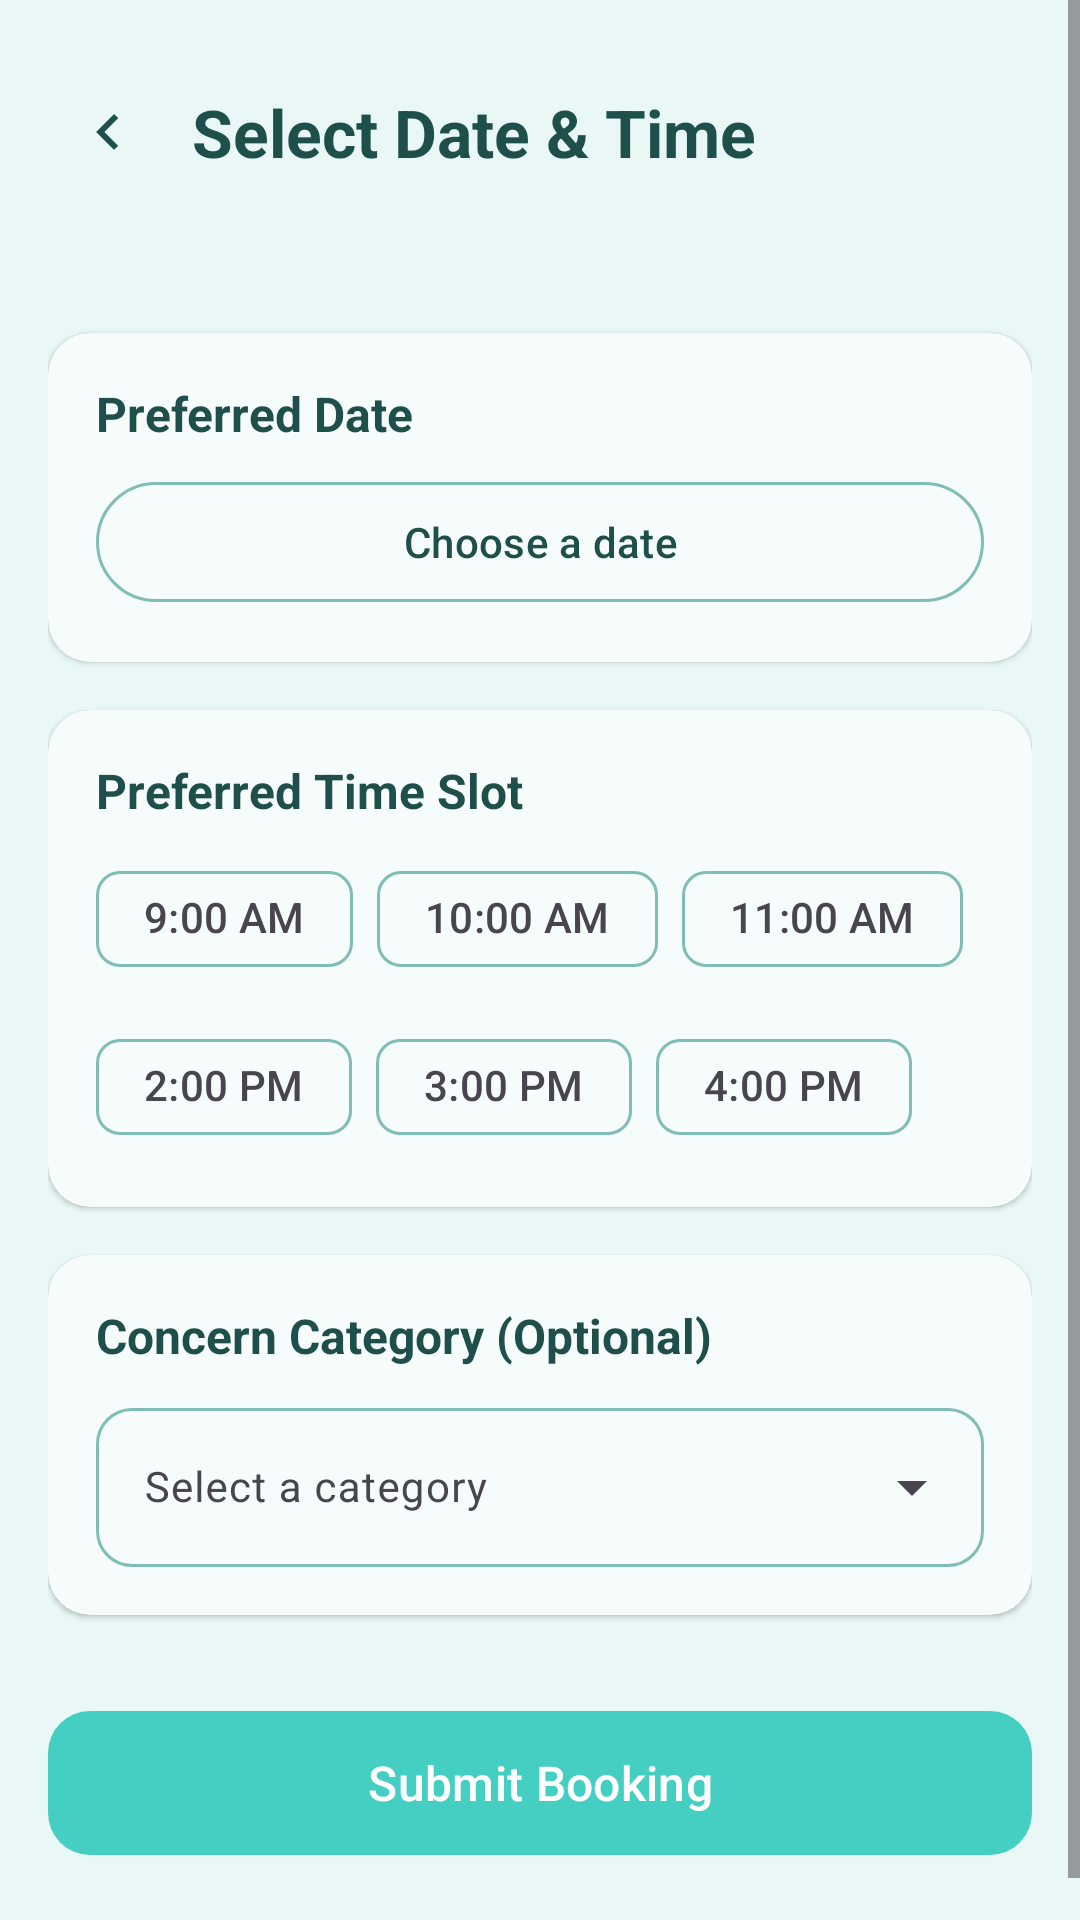

Icon click points for this 1080 × 1920 phone screenshot, format [x,y]:
Back: [107,132]
